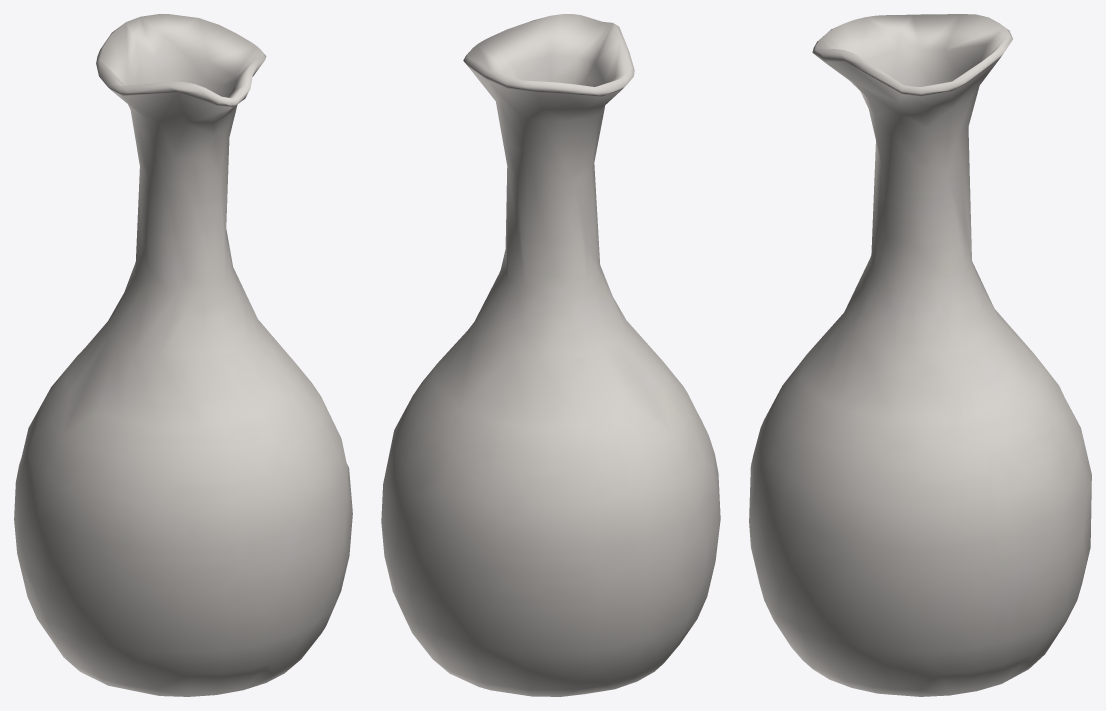
File: ceramic_vase_01.glb
3 views of the same model, side by side, from view 1: azimuth 30°, elevation 25°; view 2: azimuth 150°, elevation 25°; view 3: azimuth 270°, elevation 25° (orthographic). The views are drawn at different scales.
Parts seen in each view (by area): view 1: ceramic_vase_01; view 2: ceramic_vase_01; view 3: ceramic_vase_01.
Part boxes in pixels (bbox=[...]): ceramic_vase_01: bbox=[14, 14, 352, 696]; ceramic_vase_01: bbox=[381, 14, 720, 696]; ceramic_vase_01: bbox=[749, 14, 1091, 696].
Bounding box in the file's own units: 0.2022 × 0.4002 × 0.2018.
1 material, 1 textured.
